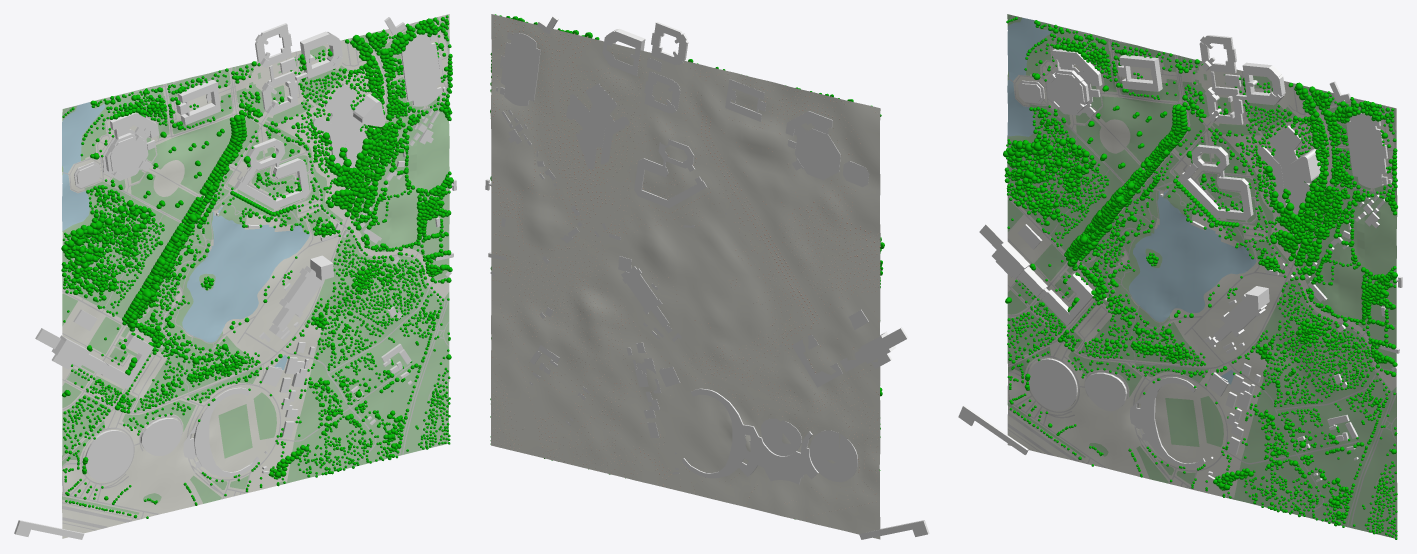
Rendered from southeast-3d.glb.
3 renders of one model, left to right at view 1: azimuth 30°, elevation 25°; view 2: azimuth 150°, elevation 25°; view 3: azimuth 330°, elevation 25°, orthographic.
Visible parts, largest first — view 1: TPX_GreenAreas, TPX_Ground, TPX_Buildings, TPX_Waterways_1, TPX_RoadsOutlines; view 2: TPX_Ground, TPX_Buildings; view 3: TPX_GreenAreas, TPX_Ground, TPX_Buildings, TPX_Waterways_1, TPX_RoadsOutlines.
Boxes of the visible parts, x1,y1,x2,y2 form: TPX_GreenAreas: (62, 14, 449, 514); TPX_Ground: (62, 14, 449, 538); TPX_Buildings: (14, 17, 456, 539); TPX_Waterways_1: (62, 102, 310, 370); TPX_RoadsOutlines: (62, 14, 449, 530); TPX_Ground: (490, 14, 880, 539); TPX_Buildings: (485, 16, 929, 539); TPX_GreenAreas: (1007, 14, 1397, 538); TPX_Ground: (1007, 38, 1396, 497); TPX_Buildings: (958, 35, 1402, 482); TPX_Waterways_1: (1007, 17, 1256, 384); TPX_RoadsOutlines: (1007, 15, 1397, 535).
Bounding box in the file's own units: 1099 × 1108 × 53.91.
